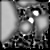node: (1, 1, 18, 42), (33, 14, 50, 33), (19, 21, 32, 35), (17, 1, 40, 7)
